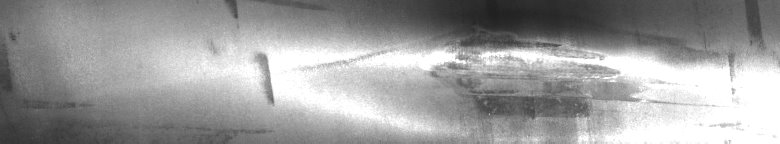ke: (223, 4, 764, 136)
